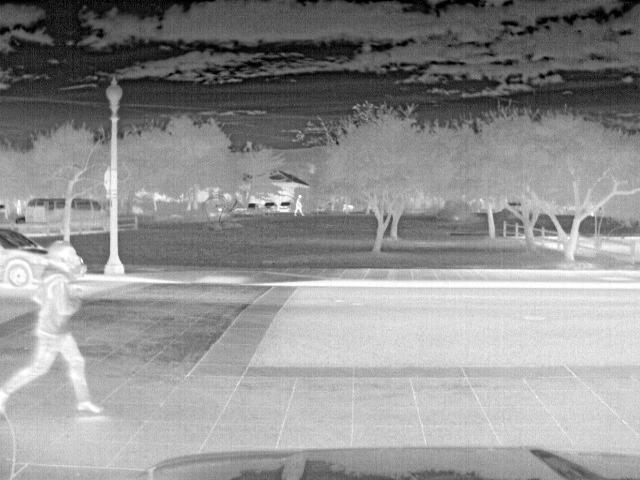car: (1, 228, 54, 287), (25, 195, 65, 231), (71, 198, 111, 230), (278, 200, 294, 214), (262, 200, 278, 214)
person: (2, 246, 103, 416), (293, 193, 306, 217)
